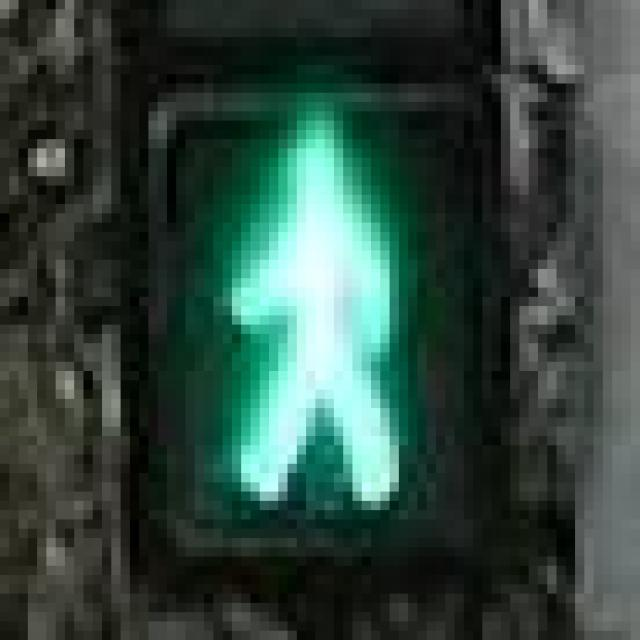green_light: (148, 92, 473, 520)
